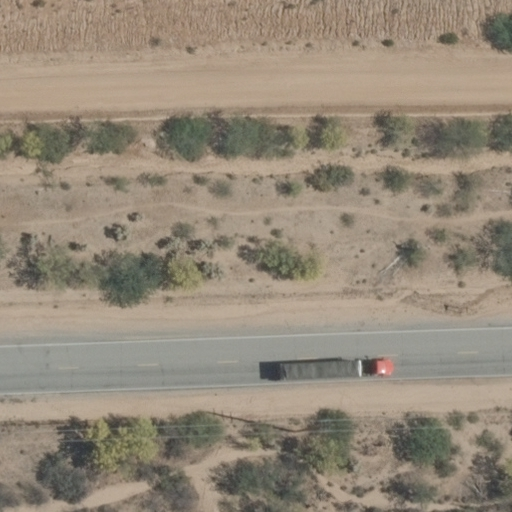DT: (288, 412, 335, 441)
